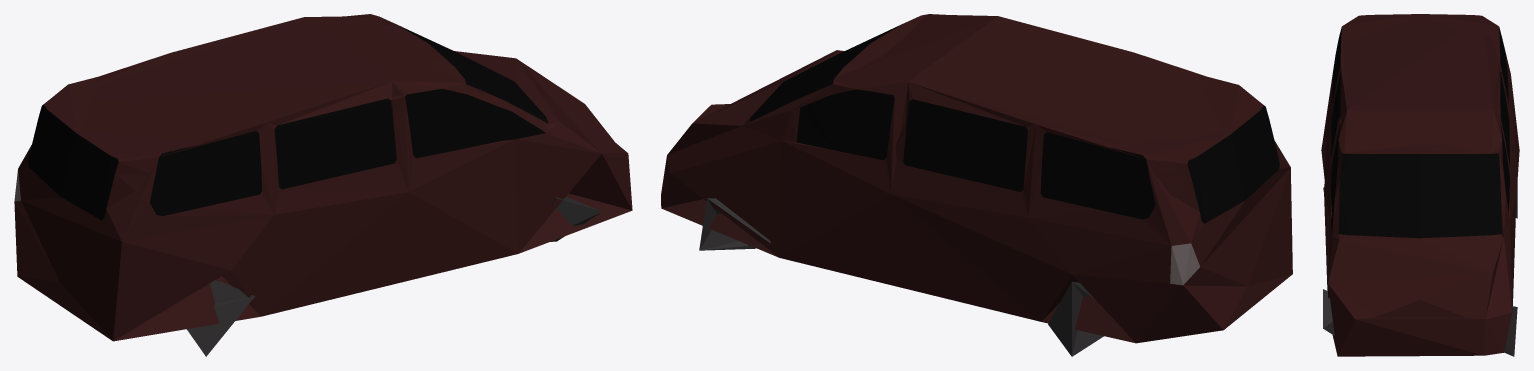
File: pc-minivan.lod2.glb
3 renders of one model, left to right at view 1: azimuth 30°, elevation 25°; view 2: azimuth 150°, elevation 25°; view 3: azimuth 270°, elevation 25°, orthographic. The views are drawn at different scales.
Parts seen in each view (by area): view 1: Wheel_D_Wheel_0; view 2: Wheel_D_Wheel_0; view 3: Wheel_D_Wheel_0.
Boxes of the visible parts, x1=… form: Wheel_D_Wheel_0: x1=14, y1=14, x2=632, y2=356; Wheel_D_Wheel_0: x1=661, y1=14, x2=1292, y2=356; Wheel_D_Wheel_0: x1=1321, y1=14, x2=1519, y2=356.
Size of the model in its own units: 4.46 by 1.7 by 1.69.
